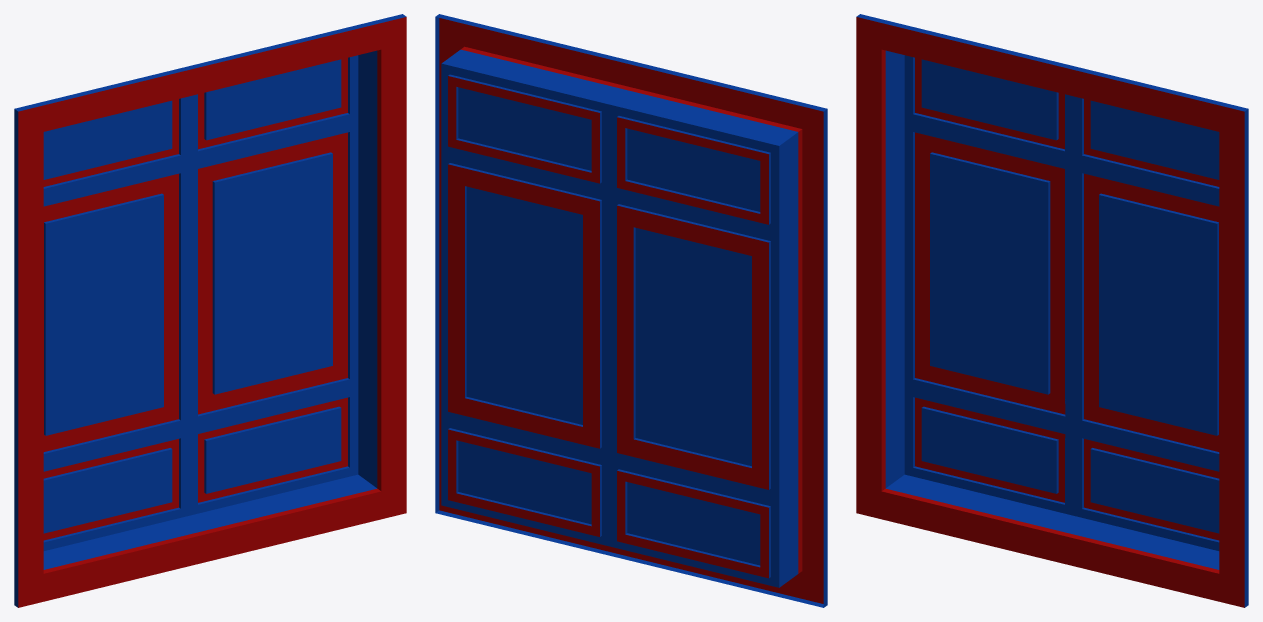
File: WindowsSecondFloor.fbx
3 views of the same model, side by side, from view 1: azimuth 30°, elevation 25°; view 2: azimuth 150°, elevation 25°; view 3: azimuth 330°, elevation 25° (orthographic).
Parts seen in each view (by area): view 1: WindowsSecondFloor; view 2: WindowsSecondFloor; view 3: WindowsSecondFloor.
Part boxes in pixels (left/top/right/bottom): WindowsSecondFloor: left=14, top=14, right=406, bottom=607; WindowsSecondFloor: left=435, top=14, right=827, bottom=607; WindowsSecondFloor: left=856, top=14, right=1248, bottom=607.
Bounding box in the file's own units: 230 × 281 × 25.65.
